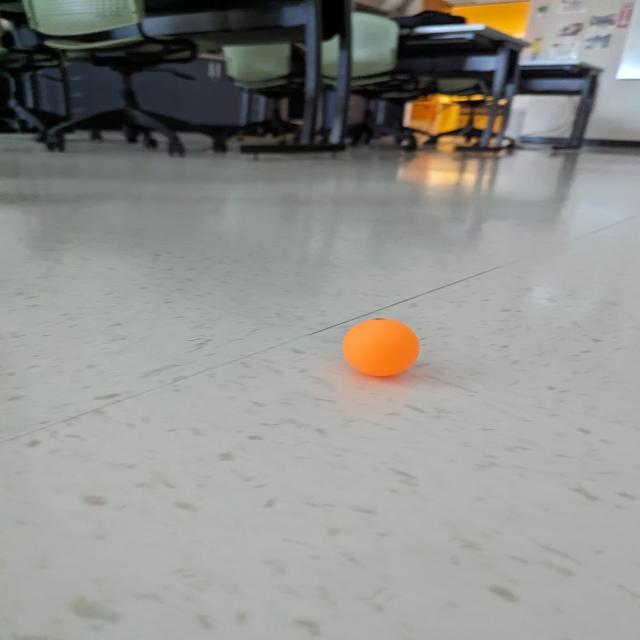ping-pong-ball: (340, 313, 427, 381)
